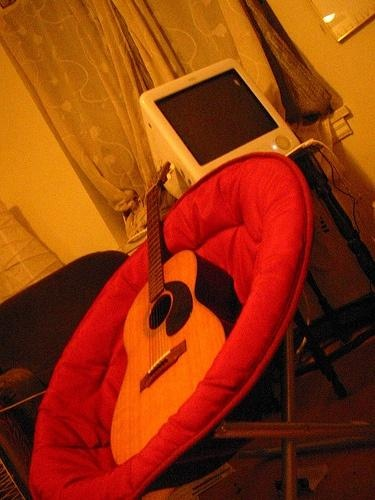tvmonitor: (137, 57, 303, 185)
